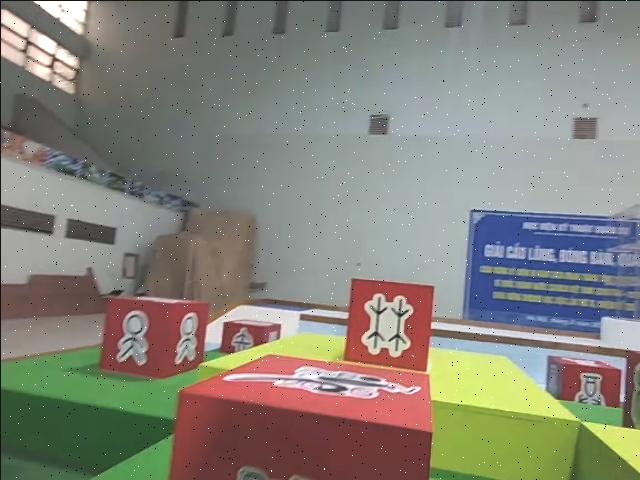R1: (169, 354, 428, 480)
R2 Fake: (218, 317, 281, 358), (621, 349, 640, 436)
R2 Real: (99, 294, 209, 384), (343, 277, 436, 373), (544, 353, 621, 412)
